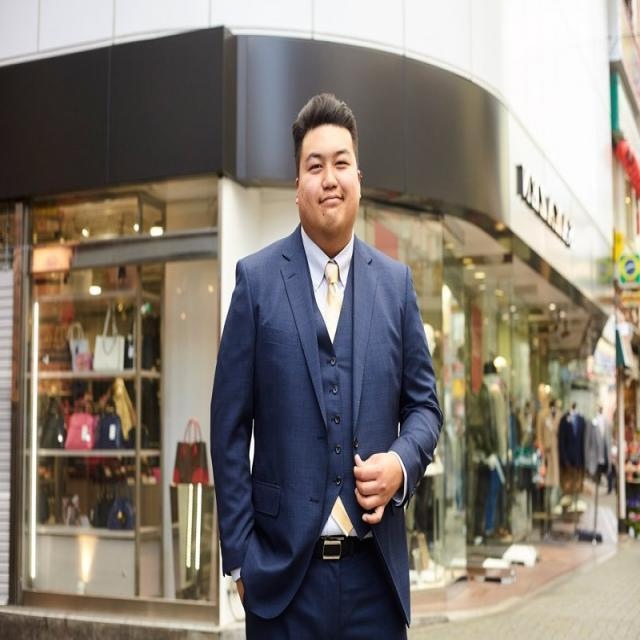direk: (211, 91, 446, 640)
